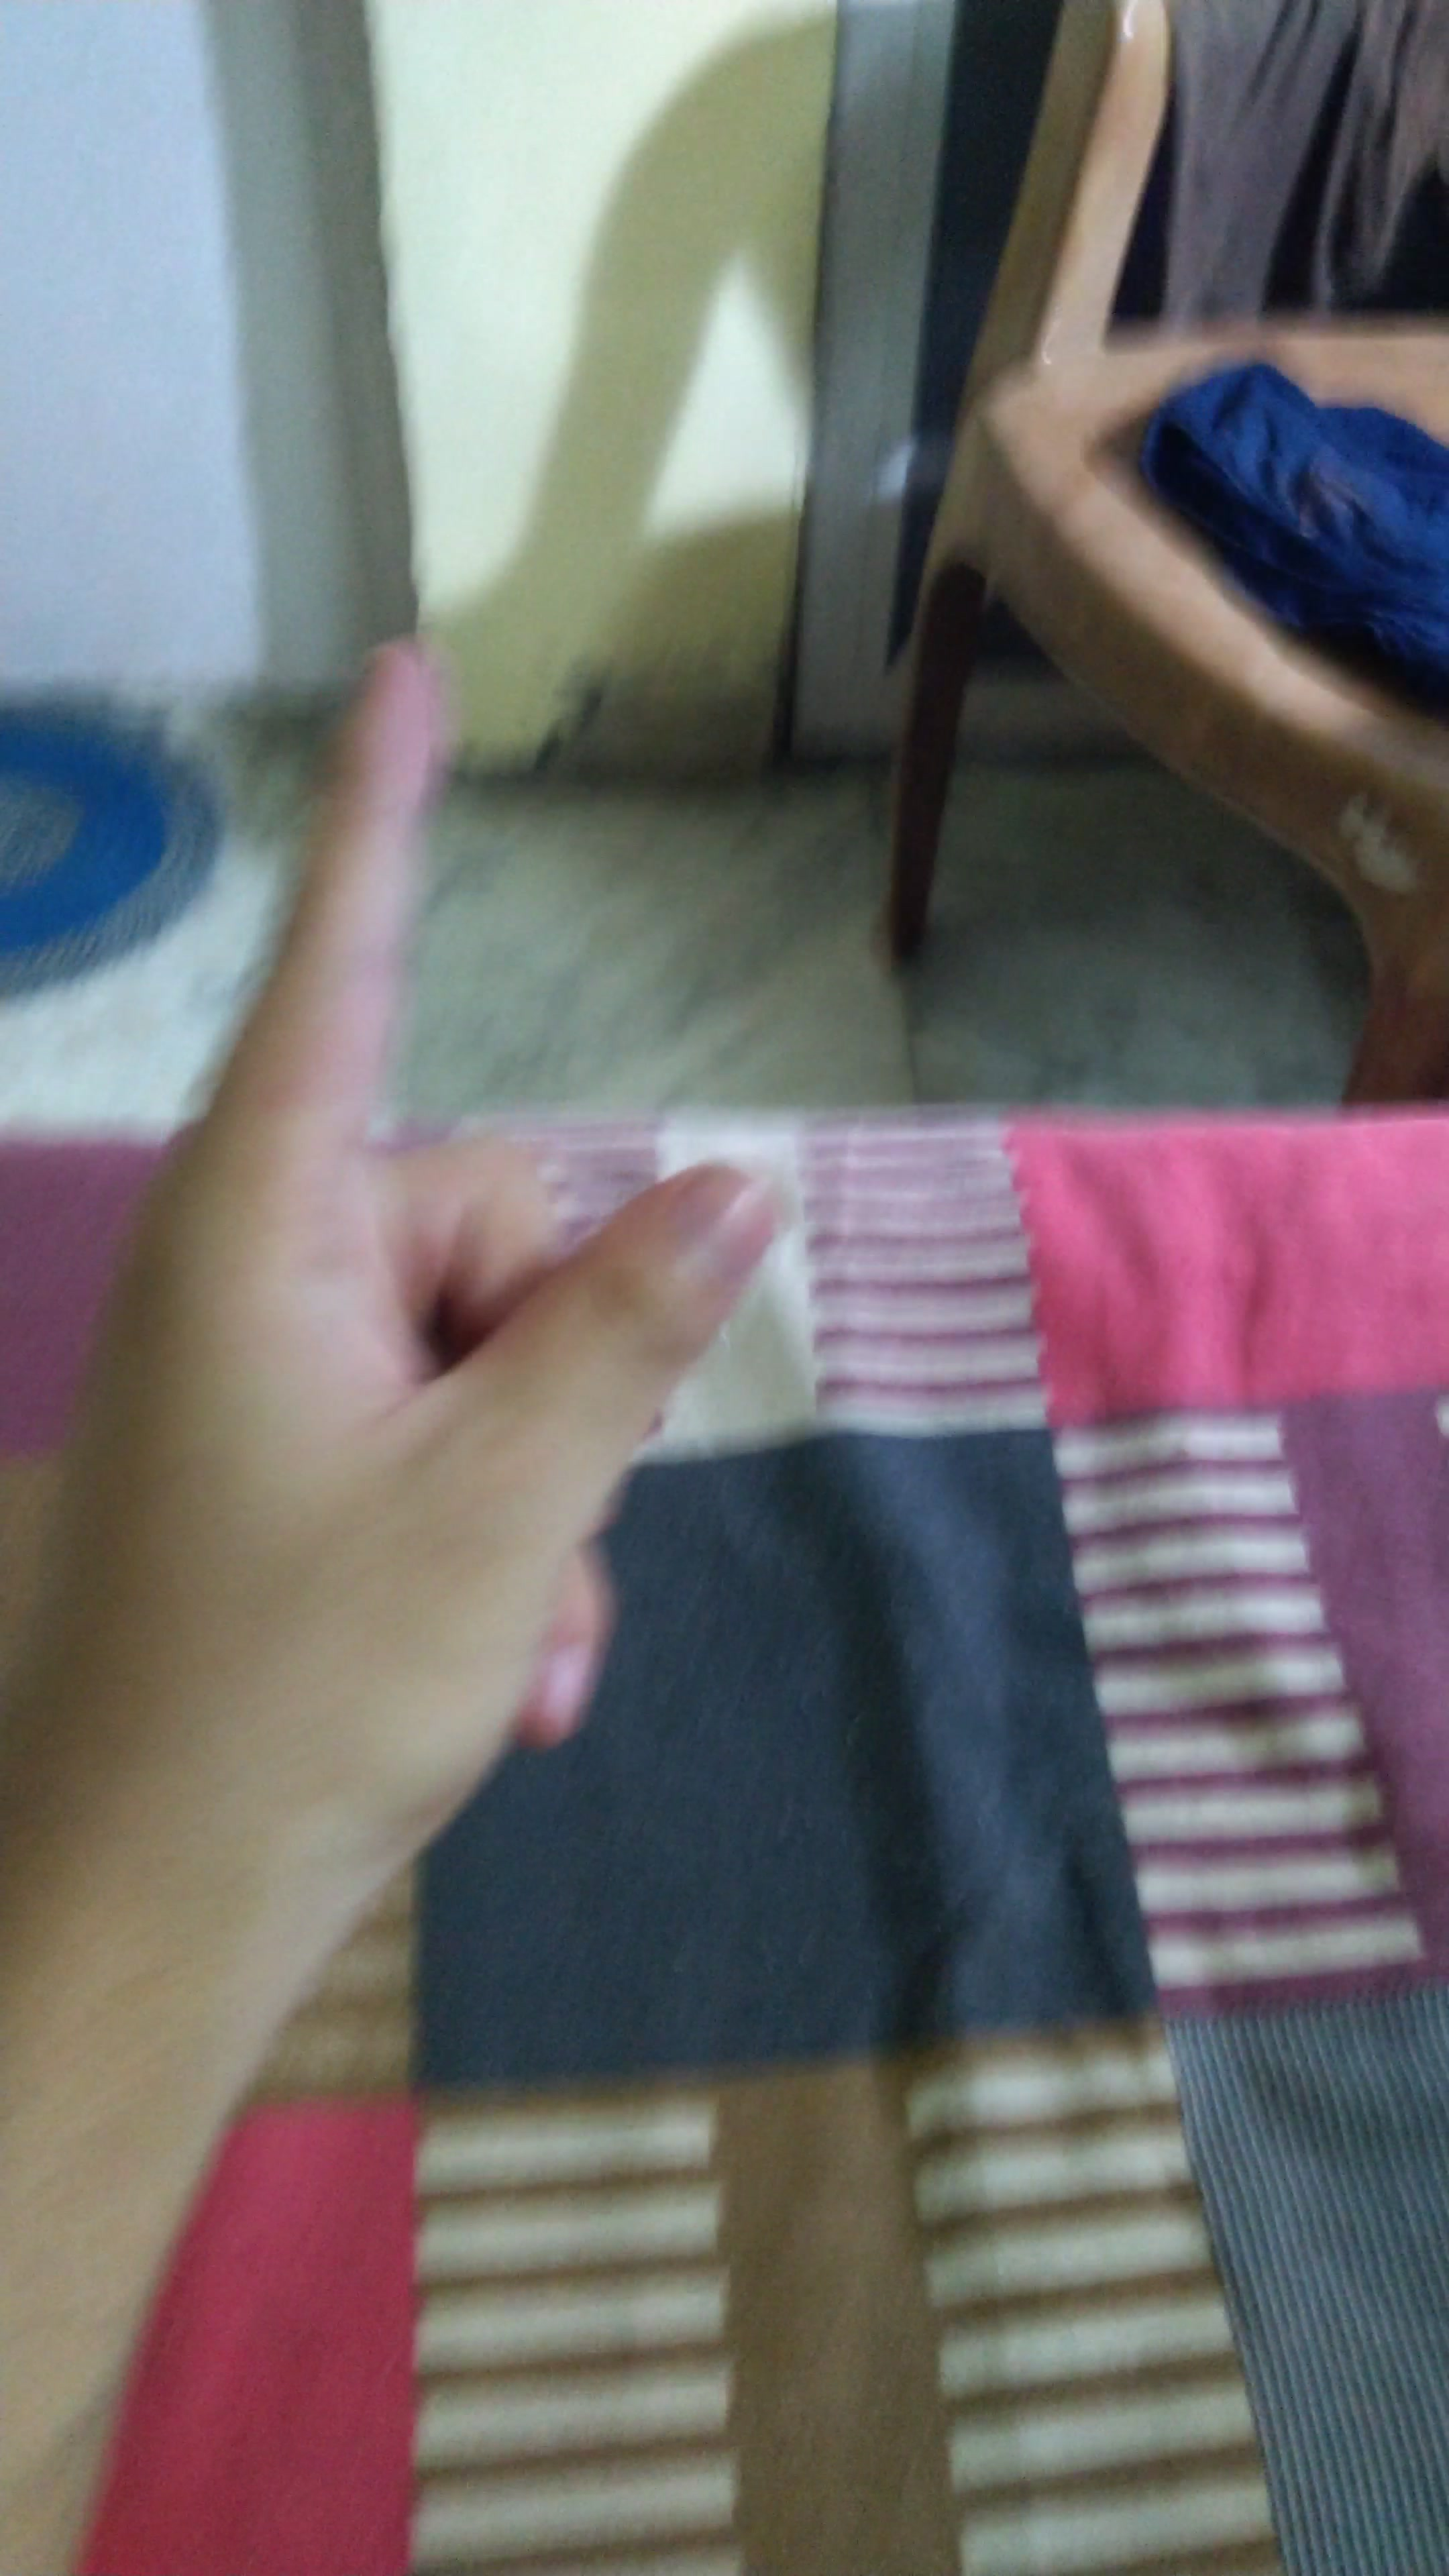hand: (23, 605, 856, 1920)
